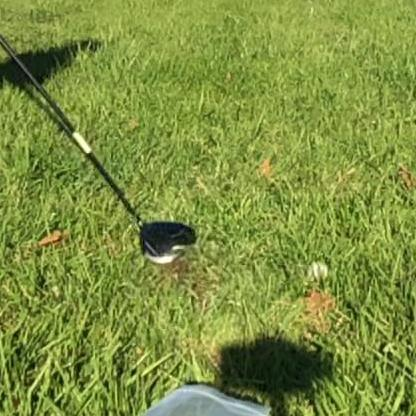golfball: (304, 258, 325, 279)
